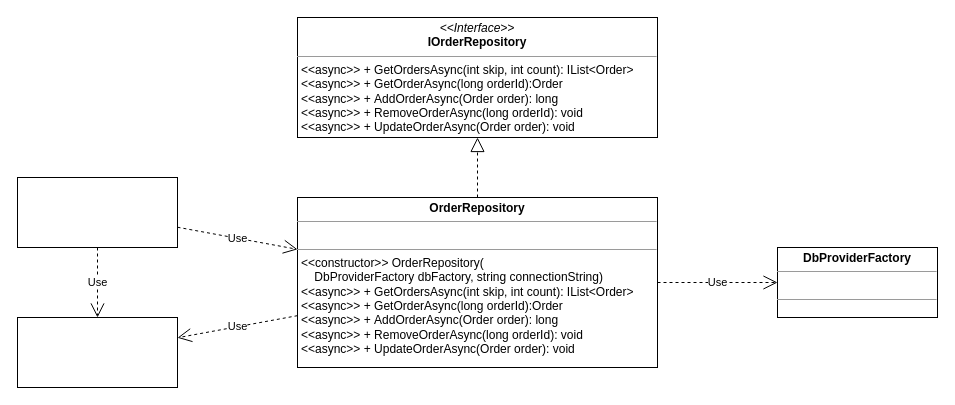
This 955x405 diagram has some shape labels left out. Each missing label, with the box of its shape:
Client: (16, 176, 178, 248)
Order: (16, 316, 178, 388)
